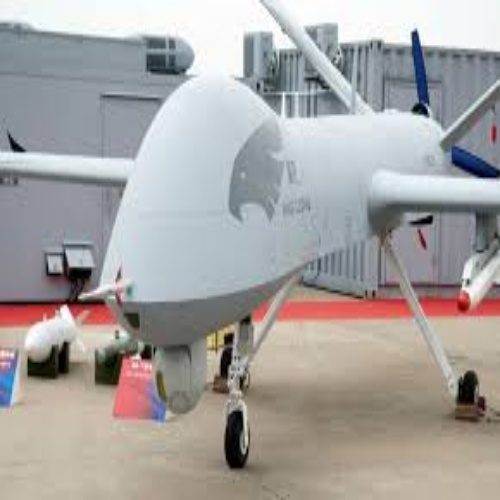uav: (1, 2, 500, 466)
